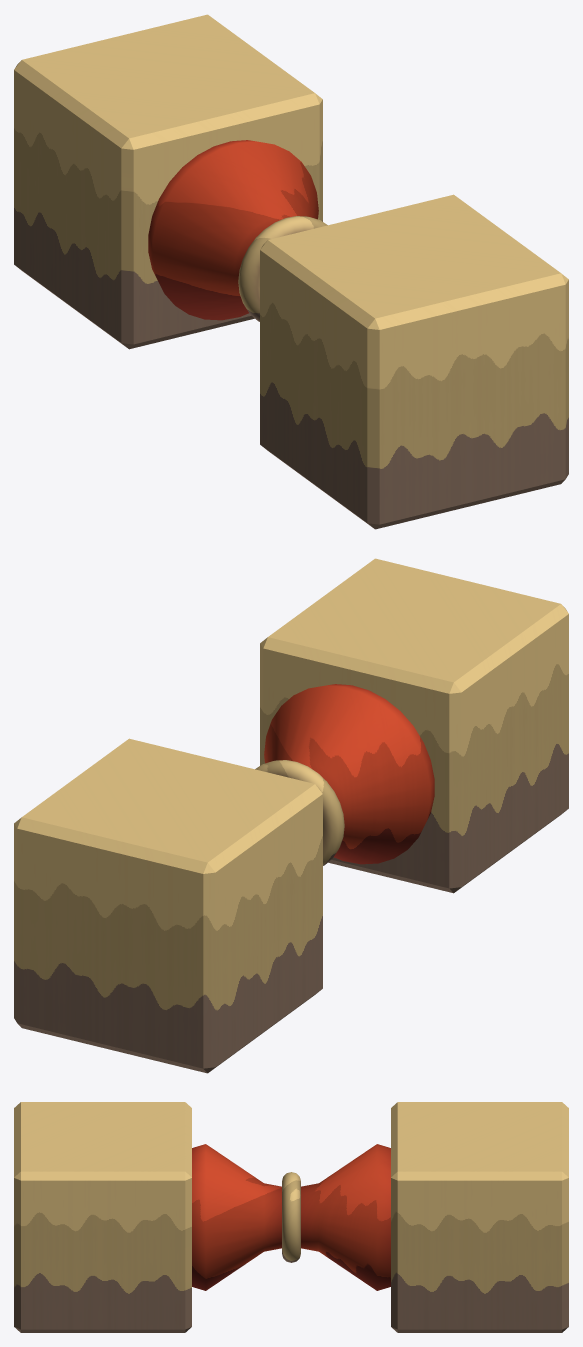
File: R4C_STRUT_STANDARD.glb
3 views of the same model, one above another, from view 1: azimuth 30°, elevation 25°; view 2: azimuth 150°, elevation 25°; view 3: azimuth 270°, elevation 25° (orthographic). The views are drawn at different scales.
Visible parts, largest first — view 1: R4C_STRUT_STANDARD; view 2: R4C_STRUT_STANDARD; view 3: R4C_STRUT_STANDARD.
Boxes of the visible parts, x1,y1,x2,y2 form: R4C_STRUT_STANDARD: (14,14,568,529); R4C_STRUT_STANDARD: (14,558,568,1073); R4C_STRUT_STANDARD: (14,1102,568,1332).
Bounding box in the file's own units: 0.52 × 0.52 × 1.62.
Materials: 2 (2 with a texture image).
